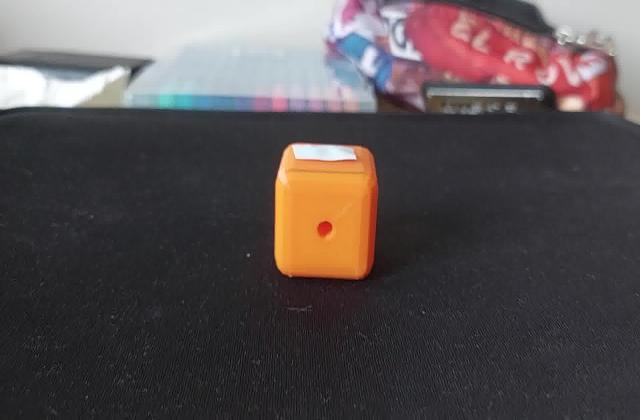cube: (269, 140, 380, 283)
